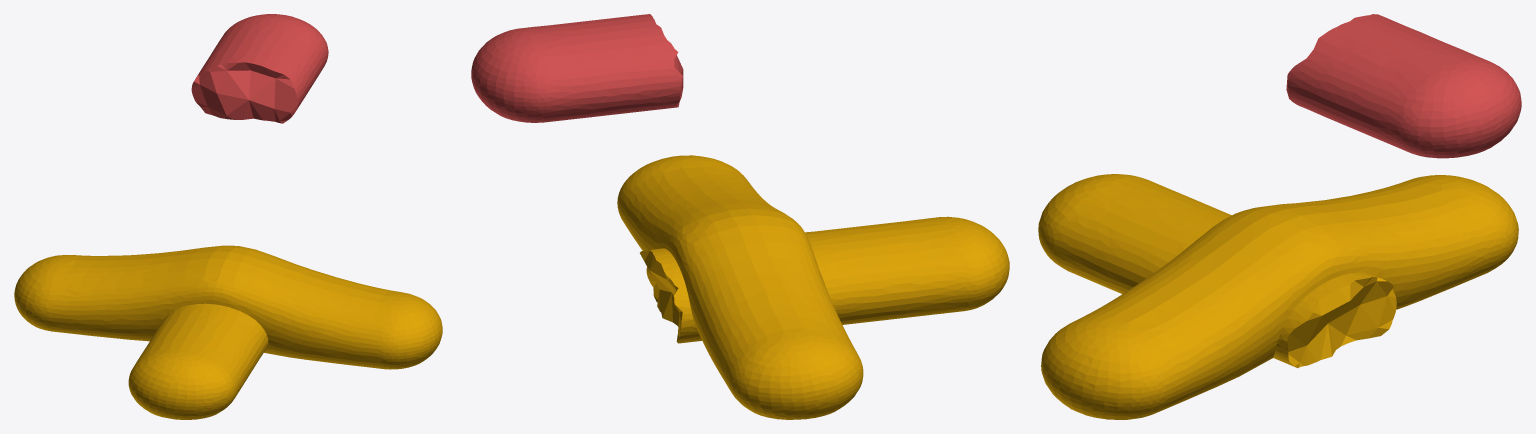
File: fractured_34_2pcs_transformed.glb
3 views of the same model, side by side, from view 1: azimuth 30°, elevation 25°; view 2: azimuth 150°, elevation 25°; view 3: azimuth 270°, elevation 25° (orthographic). The views are drawn at different scales.
Parts seen in each view (by area): view 1: piece_0.obj, piece_1.obj; view 2: piece_0.obj, piece_1.obj; view 3: piece_0.obj, piece_1.obj.
Part boxes in pixels (left/top/right/bottom): piece_0.obj: left=14, top=245, right=442, bottom=419; piece_1.obj: left=191, top=14, right=328, bottom=123; piece_0.obj: left=617, top=155, right=1009, bottom=419; piece_1.obj: left=471, top=14, right=683, bottom=122; piece_0.obj: left=1038, top=174, right=1518, bottom=419; piece_1.obj: left=1286, top=14, right=1521, bottom=158.
Bounding box in the file's own units: 0.9999 × 0.7635 × 1.
